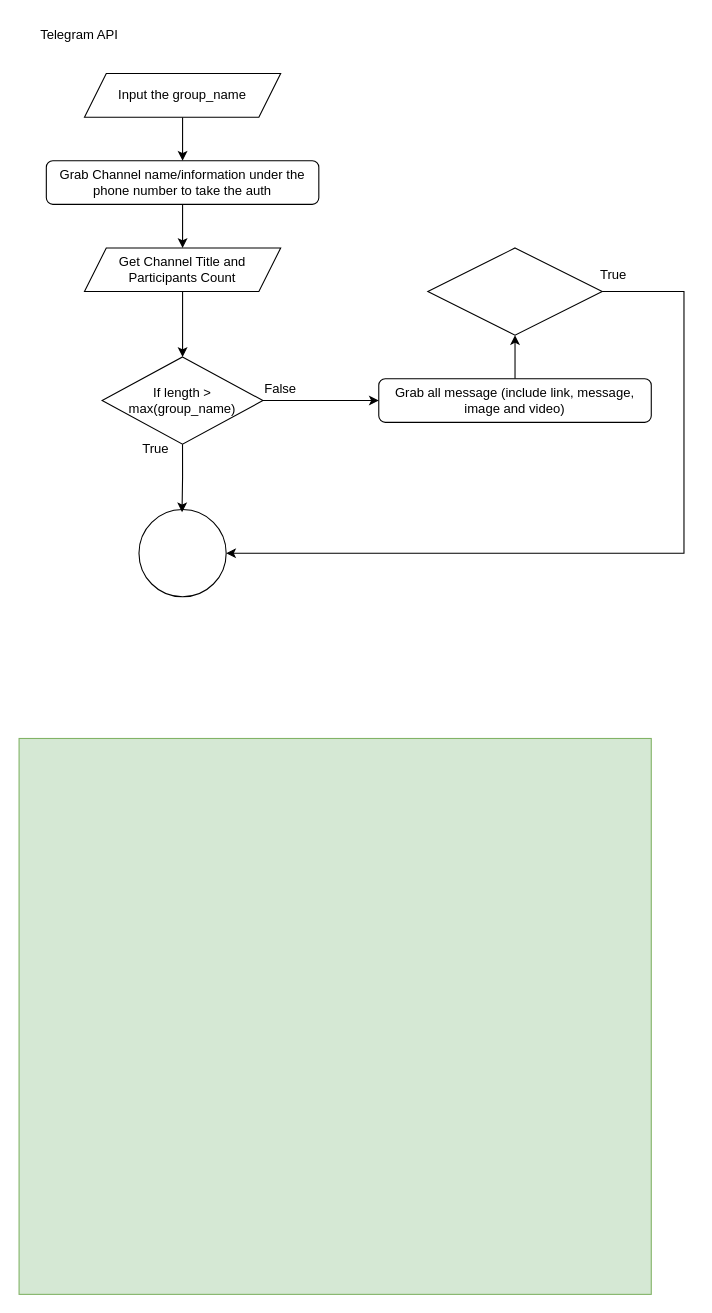
Image size: 712x1313. Some labels were removed from this diagram. Each missing label, with the box of its shape:
End: (138, 508, 226, 597)
if link_length > max (link): (427, 247, 602, 335)
